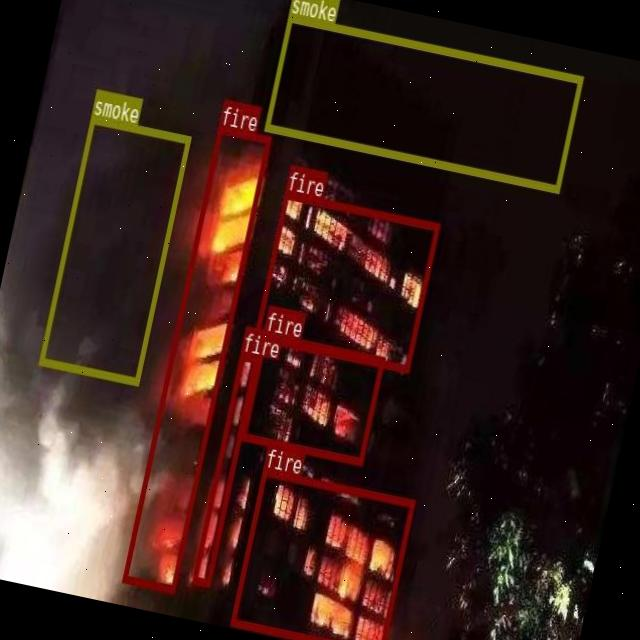fire: (122, 124, 270, 590), (254, 190, 439, 371), (229, 467, 414, 640), (241, 331, 384, 464), (192, 352, 257, 584)
smoke: (264, 13, 582, 192), (38, 115, 190, 384)
